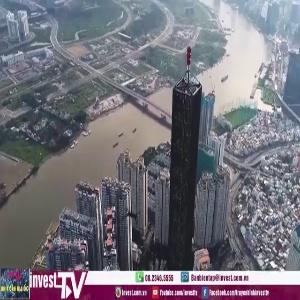drone: (111, 197, 154, 240)
